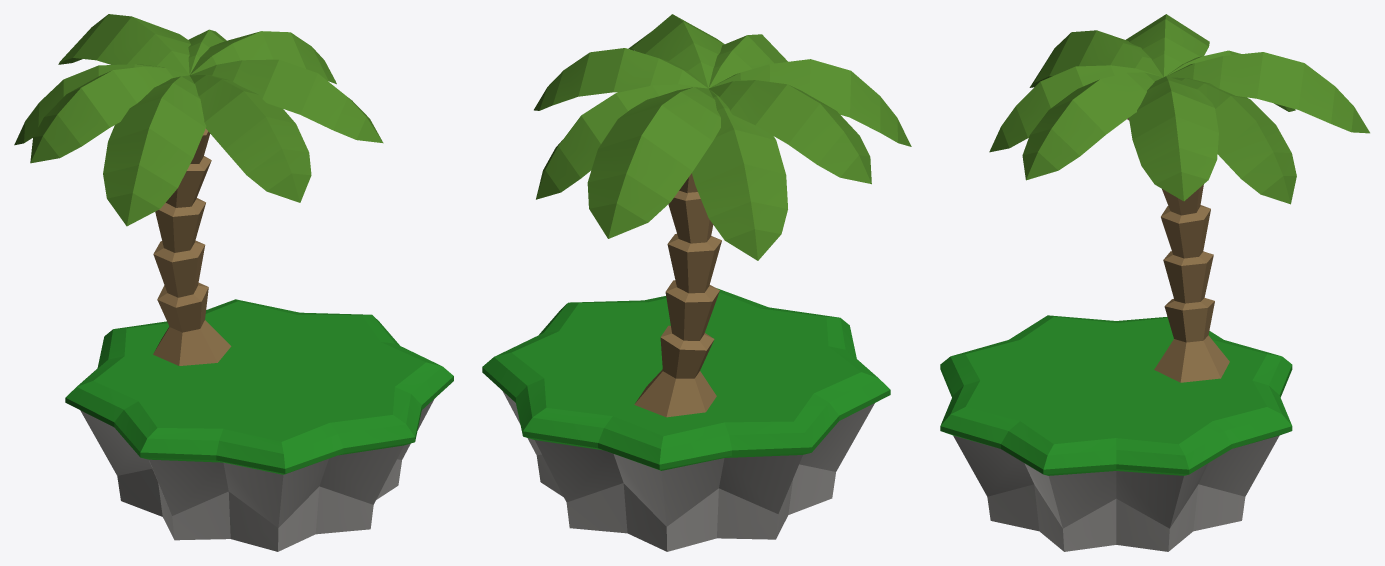
File: Floating Island.fbx
3 views of the same model, side by side, from view 1: azimuth 30°, elevation 25°; view 2: azimuth 150°, elevation 25°; view 3: azimuth 270°, elevation 25° (orthographic). The views are drawn at different scales.
Parts seen in each view (by area): view 1: Beach_Prop_Tree_Palm_3_9, Cliff_Terrain_Corner_Outer_2x2_Top_4, Cliff_Terrain_Corner_Outer_2x2_Top_3, Cliff_Terrain_Corner_Outer_2x2_Top_1, Cliff_Terrain_Corner_Outer_2x2_Top_2; view 2: Beach_Prop_Tree_Palm_3_9, Cliff_Terrain_Corner_Outer_2x2_Top_1, Cliff_Terrain_Corner_Outer_2x2_Top_2, Cliff_Terrain_Corner_Outer_2x2_Top_4, Cliff_Terrain_Corner_Outer_2x2_Top_3; view 3: Beach_Prop_Tree_Palm_3_9, Cliff_Terrain_Corner_Outer_2x2_Top_3, Cliff_Terrain_Corner_Outer_2x2_Top_2, Cliff_Terrain_Corner_Outer_2x2_Top_4, Cliff_Terrain_Corner_Outer_2x2_Top_1.
Boxes of the visible parts, x1=… form: Beach_Prop_Tree_Palm_3_9: x1=14, y1=14, x2=383, y2=365; Cliff_Terrain_Corner_Outer_2x2_Top_4: x1=114, y1=371, x2=343, y2=551; Cliff_Terrain_Corner_Outer_2x2_Top_3: x1=260, y1=342, x2=453, y2=534; Cliff_Terrain_Corner_Outer_2x2_Top_1: x1=65, y1=321, x2=259, y2=516; Cliff_Terrain_Corner_Outer_2x2_Top_2: x1=205, y1=299, x2=399, y2=371; Beach_Prop_Tree_Palm_3_9: x1=534, y1=14, x2=911, y2=417; Cliff_Terrain_Corner_Outer_2x2_Top_1: x1=598, y1=366, x2=839, y2=551; Cliff_Terrain_Corner_Outer_2x2_Top_2: x1=482, y1=331, x2=662, y2=533; Cliff_Terrain_Corner_Outer_2x2_Top_4: x1=702, y1=307, x2=890, y2=514; Cliff_Terrain_Corner_Outer_2x2_Top_3: x1=539, y1=288, x2=767, y2=356; Beach_Prop_Tree_Palm_3_9: x1=989, y1=14, x2=1369, y2=382; Cliff_Terrain_Corner_Outer_2x2_Top_3: x1=940, y1=380, x2=1116, y2=551; Cliff_Terrain_Corner_Outer_2x2_Top_2: x1=1116, y1=380, x2=1292, y2=551; Cliff_Terrain_Corner_Outer_2x2_Top_4: x1=940, y1=315, x2=1116, y2=397; Cliff_Terrain_Corner_Outer_2x2_Top_1: x1=1116, y1=316, x2=1292, y2=397.
Bounding box in the file's own units: 37.1 × 43.08 × 39.53.
